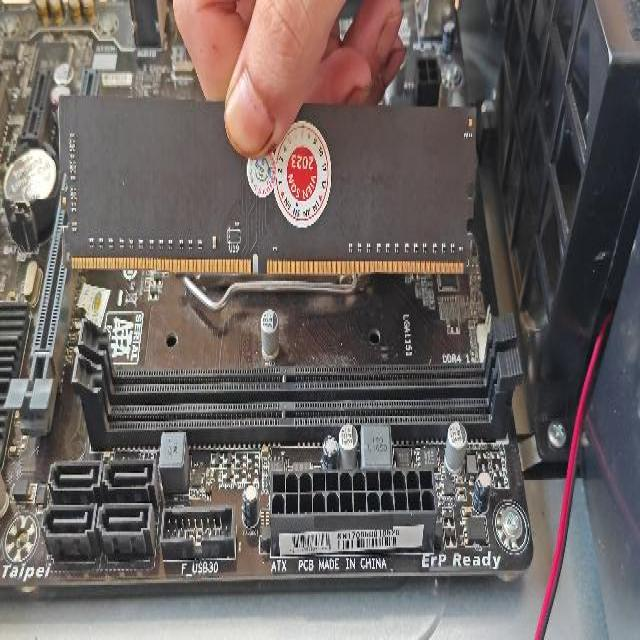Mainboard: (0, 1, 535, 587)
RAM: (57, 97, 479, 280)
